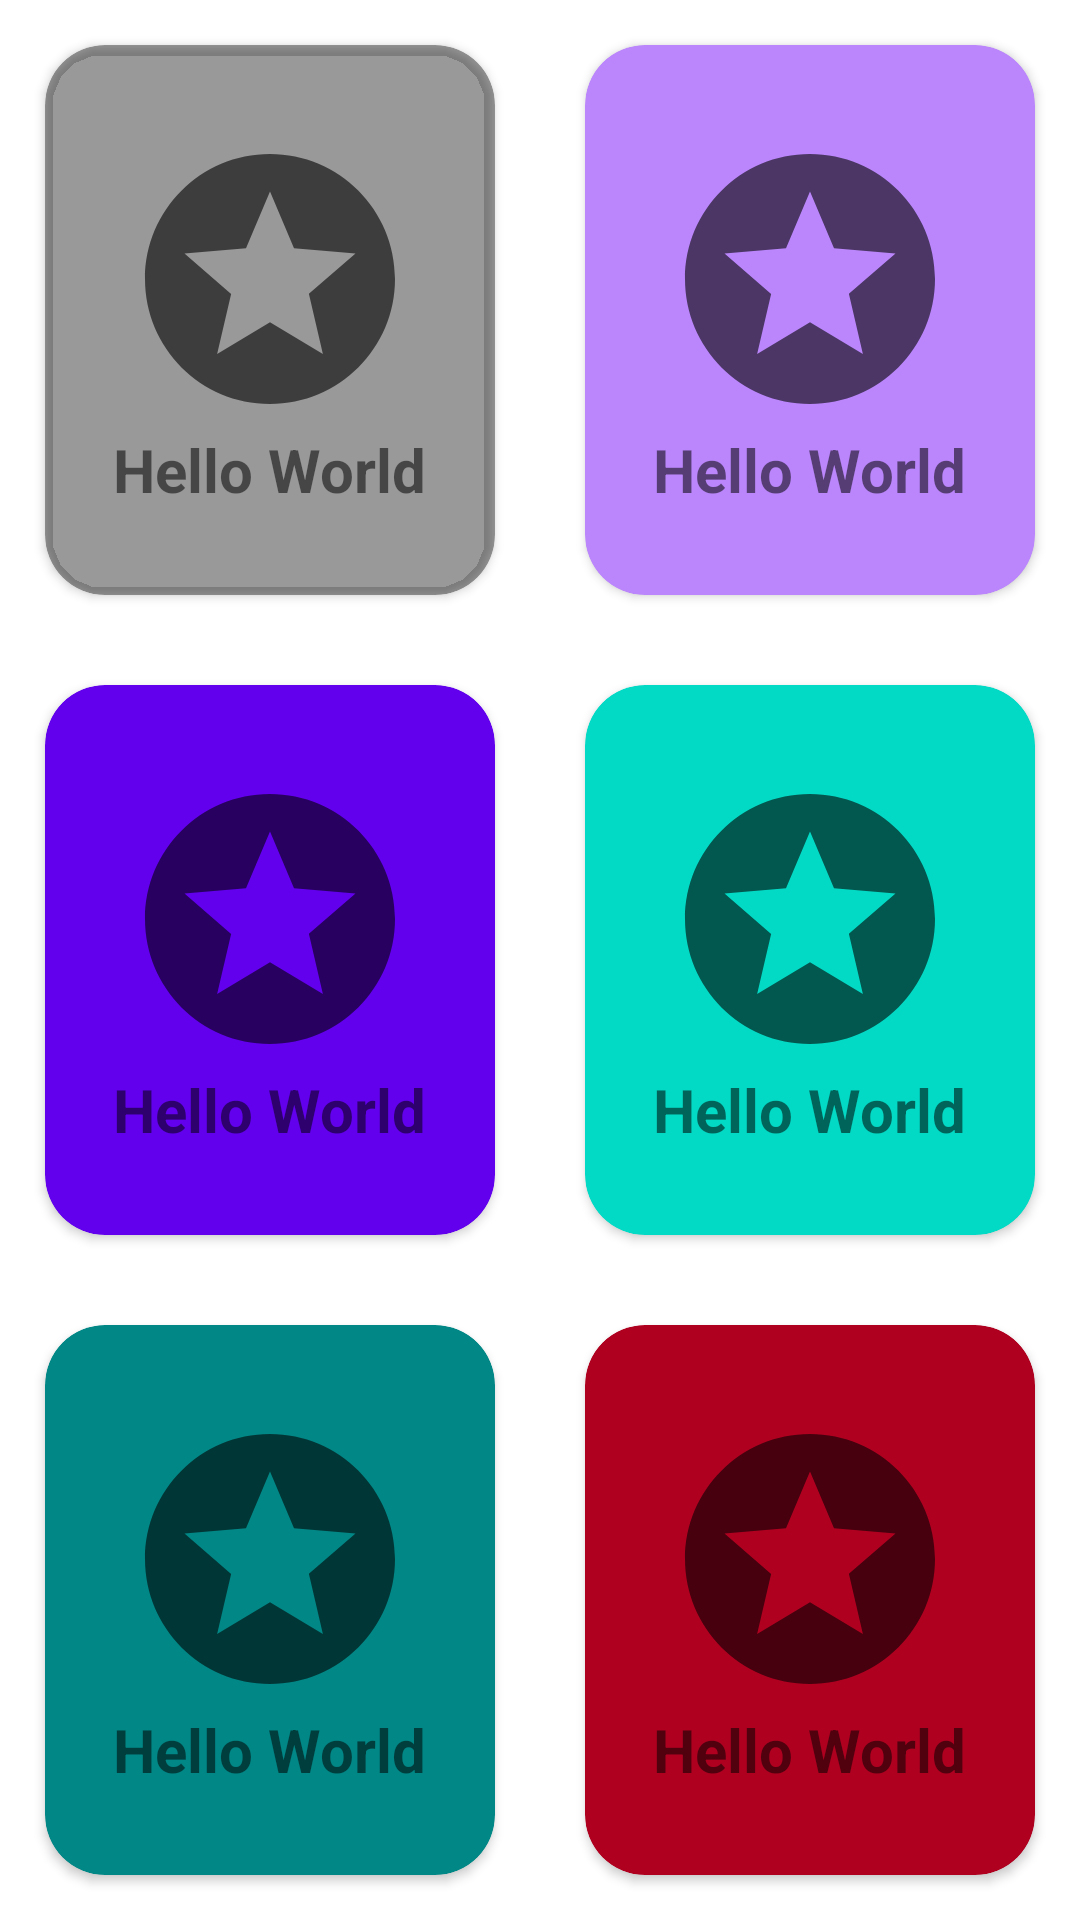

Where to tap for icons on this 1080 × 1920 app screen, as [x,y]:
star: [270,279], [810,279], [270,919], [810,919], [270,1559], [810,1559]
